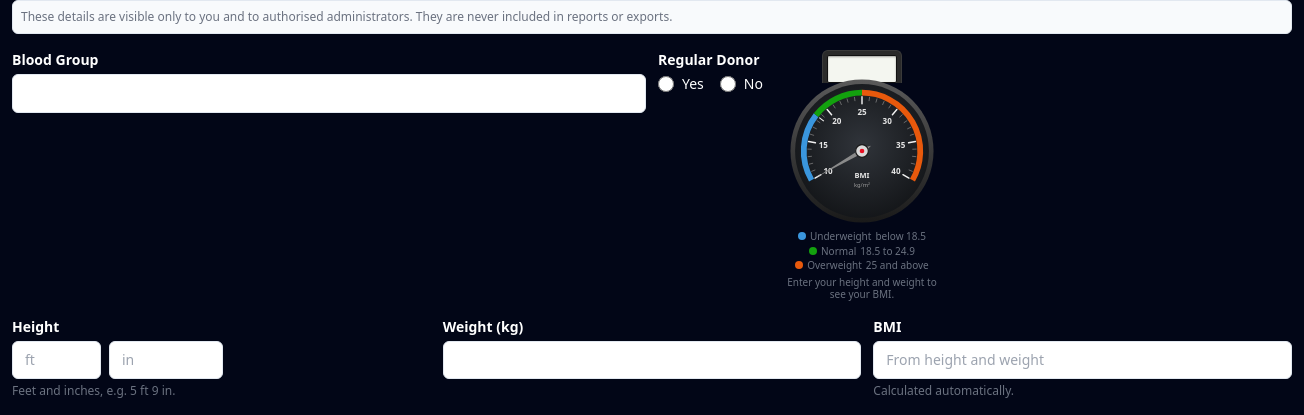
Test: Tab 6 — Health & Fitness › derives BMI from height and weight, and keeps it read-only
The width and height of the screenshot is (1304, 415).
Check: the field labelled "BMI Calculated automatically." is empty, box left=873, top=340, right=1292, bottom=378
Step 1. Type "5" into the number field named "Height in feet" → (56, 360), box left=12, top=340, right=101, bottom=378
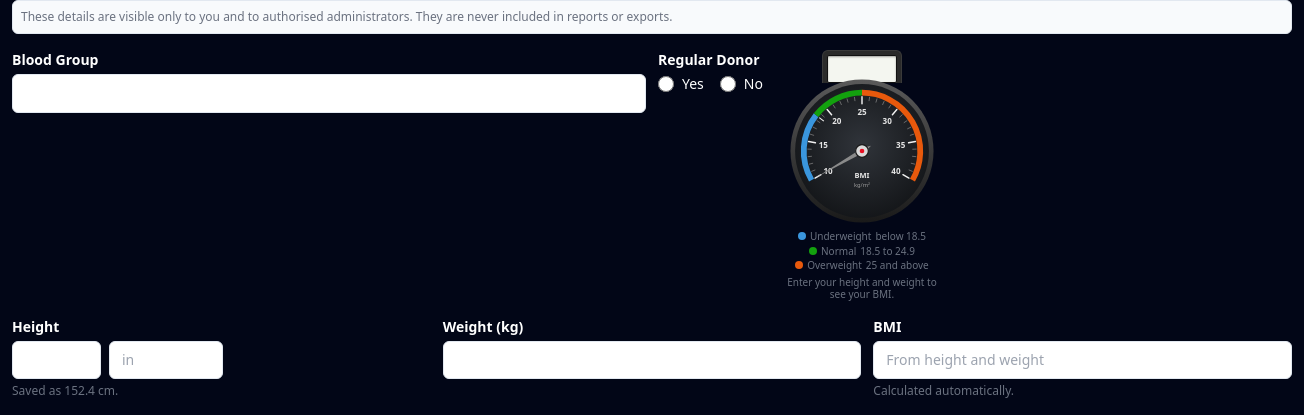
Step 2. Type "7" into the number field named "Height in inches" → (166, 360), box left=109, top=340, right=223, bottom=378
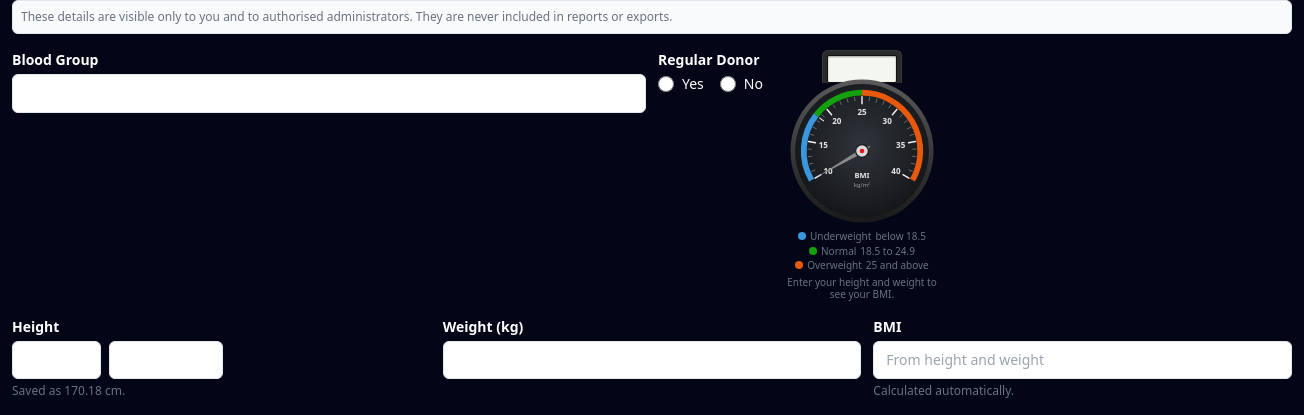
Check: the field labelled "BMI Calculated automatically." is empty, box left=873, top=340, right=1292, bottom=378
Step 3. Type "70" into the number field labelled "Weight (kg)" → (652, 360), box left=443, top=340, right=861, bottom=378
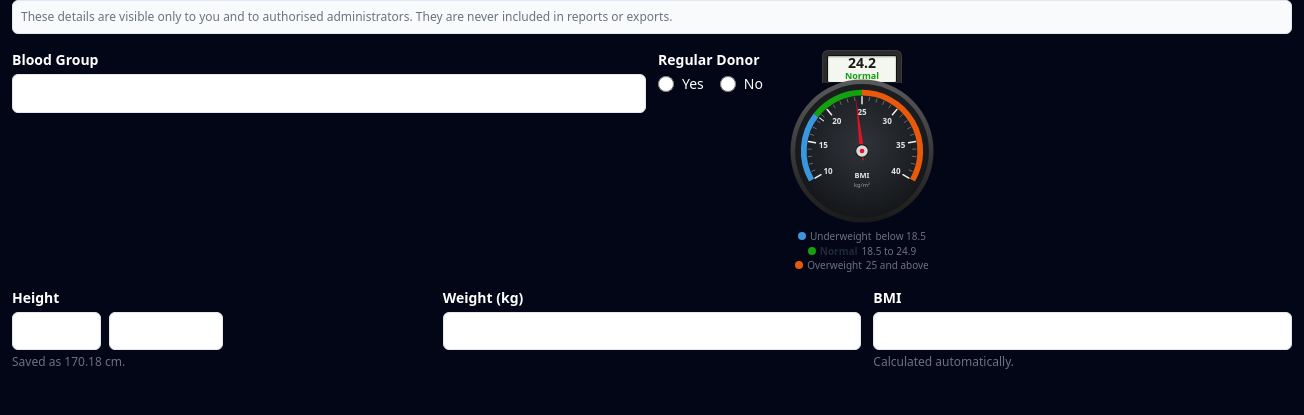
Check: the field labelled "BMI Calculated automatically." holds "24.17", box left=873, top=312, right=1292, bottom=350
